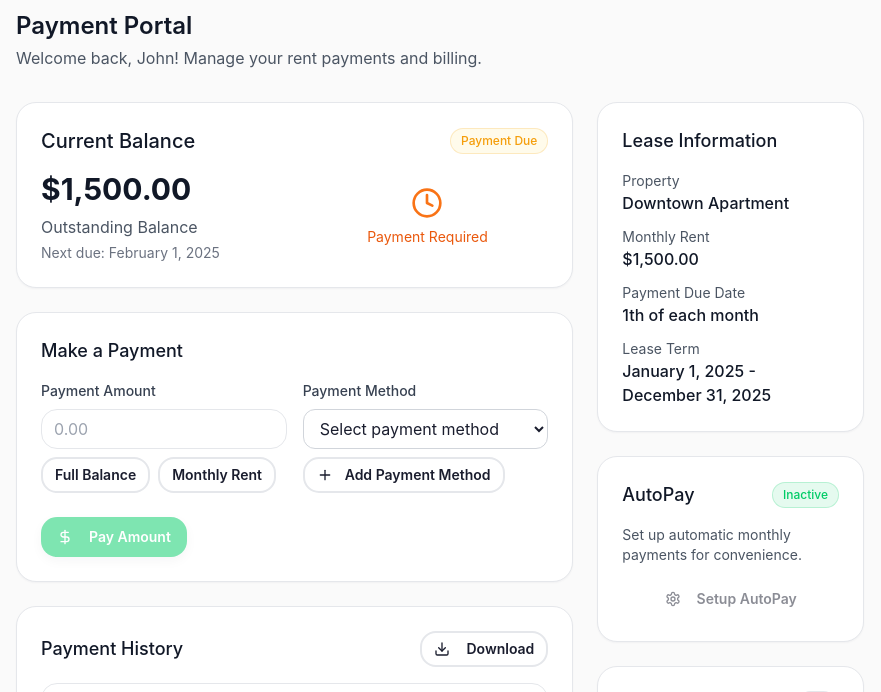
Scenario: TenantPaymentPortal › handles payment amount selection
Note: Click Full Balance button
Click the button "Full Balance" at point(96, 475), box [41,457,150,493]
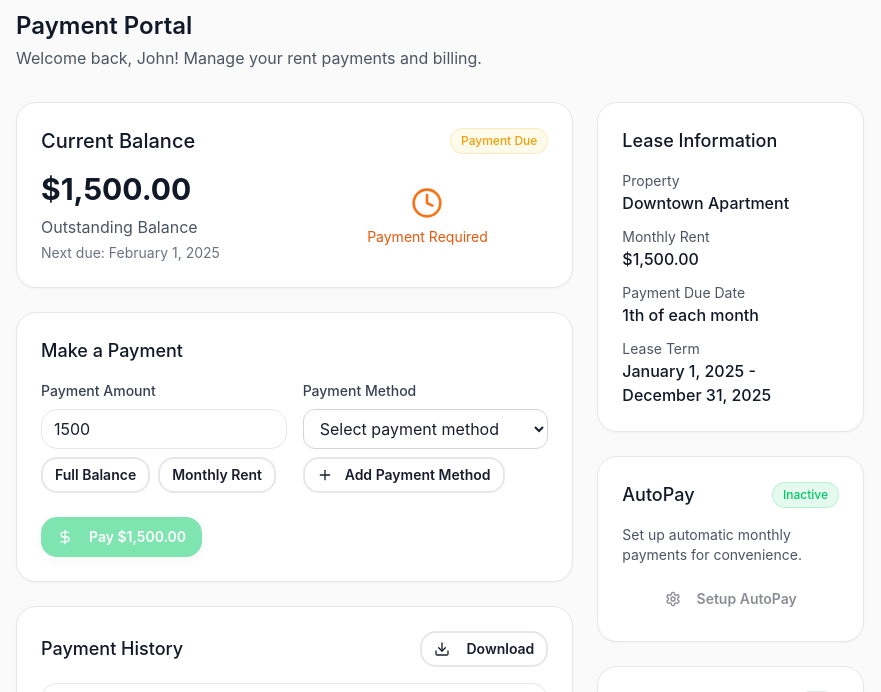
Expected: the number field with placeholder "0.00" holds "1500", [41,409,287,449]
